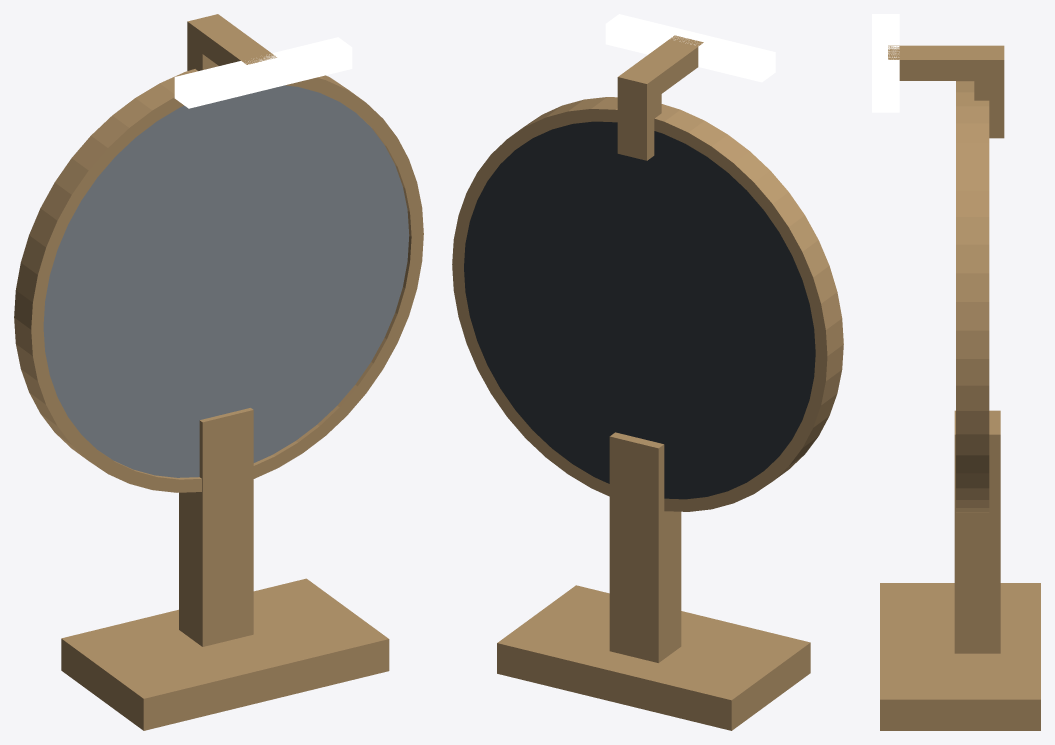
3 views of the same model, side by side, from view 1: azimuth 30°, elevation 25°; view 2: azimuth 150°, elevation 25°; view 3: azimuth 270°, elevation 25° (orthographic). The views are drawn at different scales.
Parts seen in each view (by area): view 1: makeup-face-center, makeup-base, makeup-frame-center, makeup-post, makeup-lamp, makeup-lamp-arm, makeup-lamp-riser; view 2: makeup-back-center, makeup-base, makeup-frame-center, makeup-post, makeup-lamp, makeup-lamp-arm, makeup-lamp-riser; view 3: makeup-base, makeup-frame-center, makeup-post, makeup-lamp-arm, makeup-lamp, makeup-lamp-riser.
Boxes of the visible parts, <box> form: makeup-face-center: <box>43,85,409,477</box>; makeup-base: <box>61,578,389,730</box>; makeup-frame-center: <box>14,69,423,492</box>; makeup-post: <box>179,408,253,646</box>; makeup-lamp: <box>174,37,352,108</box>; makeup-lamp-arm: <box>187,14,276,65</box>; makeup-lamp-riser: <box>187,29,218,70</box>; makeup-back-center: <box>464,121,815,499</box>; makeup-base: <box>497,585,810,730</box>; makeup-frame-center: <box>452,97,843,511</box>; makeup-post: <box>609,432,681,662</box>; makeup-lamp: <box>605,14,775,82</box>; makeup-lamp-arm: <box>617,35,703,104</box>; makeup-lamp-riser: <box>617,81,661,160</box>; makeup-base: <box>880,583,1040,730</box>; makeup-frame-center: <box>956,81,989,512</box>; makeup-post: <box>954,410,1000,653</box>; makeup-lamp-arm: <box>888,45,1004,80</box>; makeup-lamp: <box>872,14,899,112</box>; makeup-lamp-riser: <box>974,67,1004,138</box>.
Bounding box in the file's own units: 0.3841 × 0.595 × 0.147.
